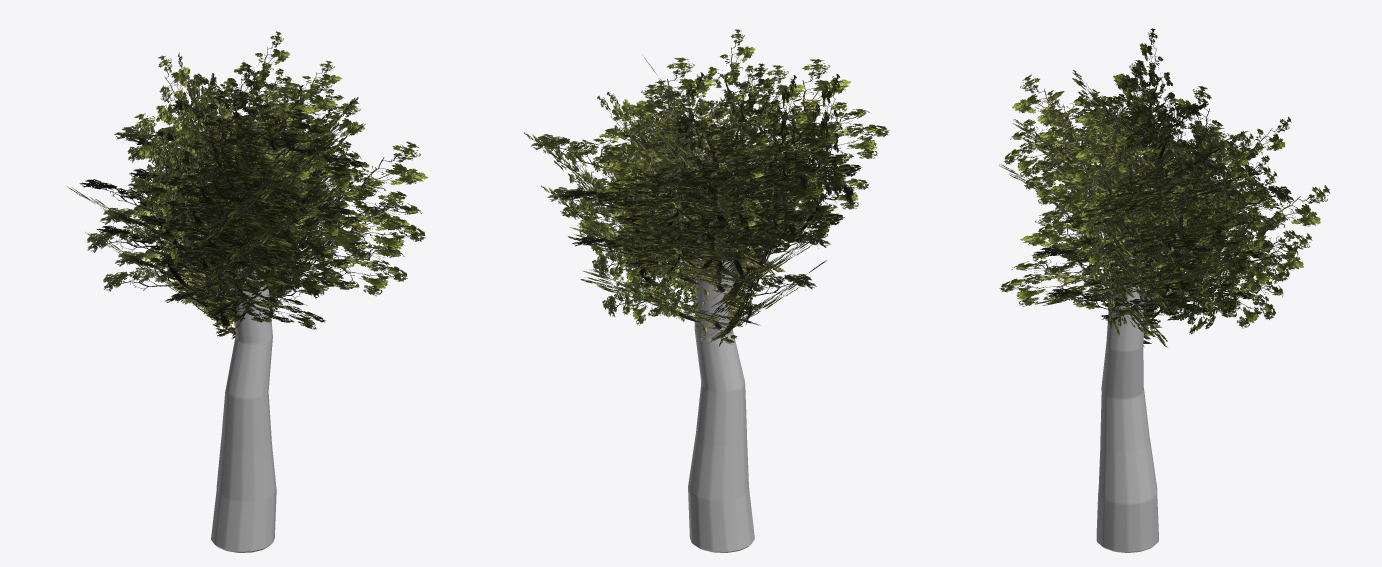
File: SM_Tree_1.fbx
3 renders of one model, left to right at view 1: azimuth 30°, elevation 25°; view 2: azimuth 150°, elevation 25°; view 3: azimuth 270°, elevation 25°, orthographic. The views are drawn at different scales.
Visible parts, largest first — view 1: Branches, Tree; view 2: Branches, Tree; view 3: Branches, Tree.
Boxes of the visible parts, <box> form: Branches: <box>67,31,427,339</box>; Tree: <box>211,256,276,552</box>; Branches: <box>524,29,889,346</box>; Tree: <box>688,251,754,552</box>; Branches: <box>999,28,1330,347</box>; Tree: <box>1096,257,1158,552</box>.
Bounding box in the file's own units: 175 × 219 × 174.
